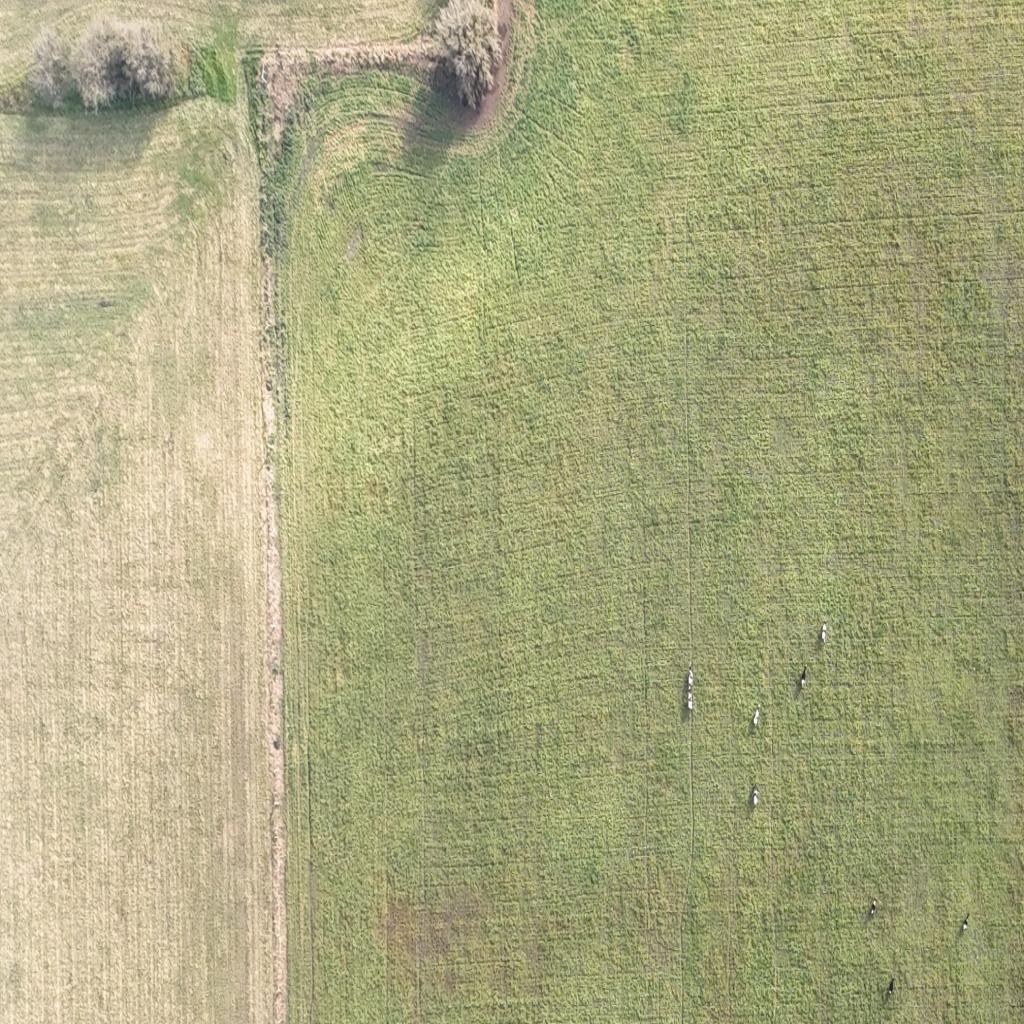cow: (800, 663, 808, 687), (870, 899, 877, 917), (821, 622, 827, 642), (754, 707, 760, 727), (888, 977, 894, 996), (688, 668, 693, 688), (962, 916, 968, 932), (753, 789, 758, 807), (688, 693, 692, 710)
